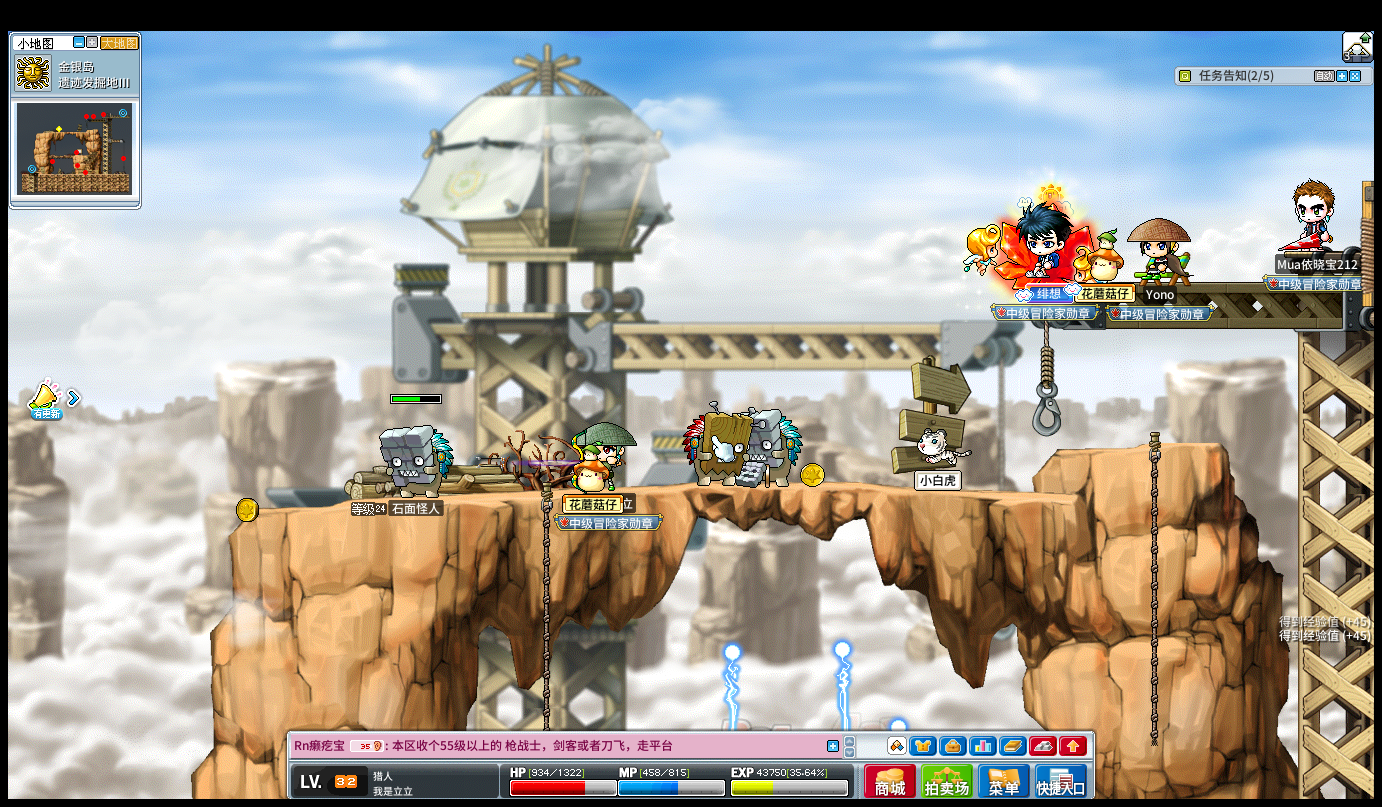floor: (223, 477, 1119, 508), (1052, 437, 1225, 453), (1052, 440, 1228, 455)
monster: (683, 403, 756, 486), (380, 424, 453, 497), (749, 409, 803, 487)
rope: (1145, 425, 1161, 751), (539, 478, 551, 743), (540, 477, 551, 686)
